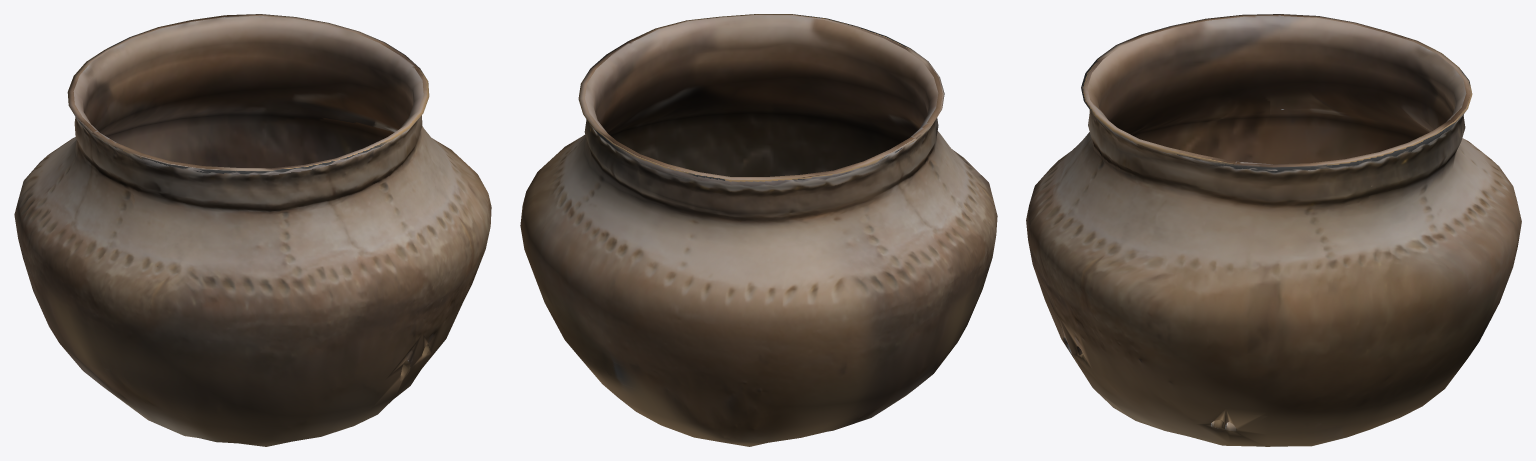
The model's file is olla.fbx.
3 views of the same model, side by side, from view 1: azimuth 30°, elevation 25°; view 2: azimuth 150°, elevation 25°; view 3: azimuth 270°, elevation 25° (orthographic). The views are drawn at different scales.
Visible parts, largest first — view 1: olla; view 2: olla; view 3: olla.
Part boxes in pixels (x1,y1,x2,y2): olla: (14,14,491,446); olla: (520,14,997,446); olla: (1026,14,1521,446).
Size of the model in its own units: 16.84 by 16.9 by 12.48.
1 material, 1 textured.
